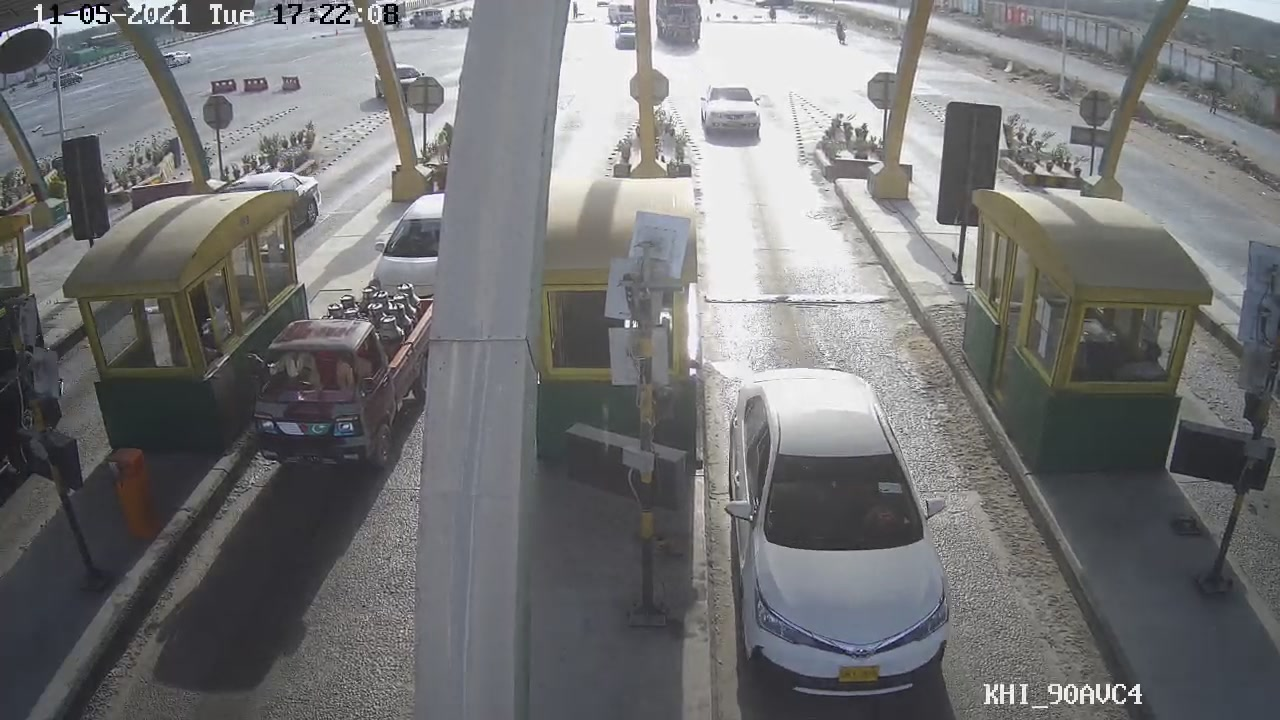F1: (713, 355, 964, 701)
